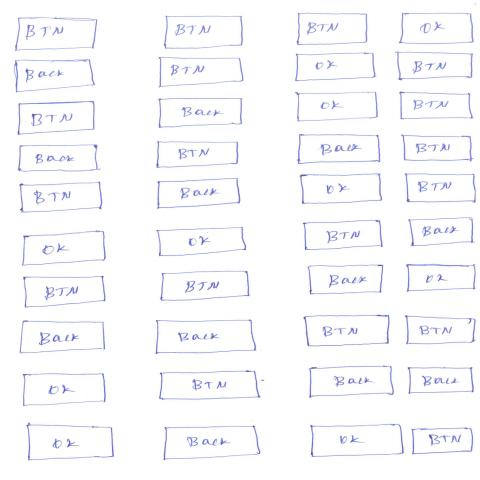Button: (162, 425, 259, 462), (156, 320, 256, 355), (27, 424, 116, 463), (21, 230, 107, 268), (310, 424, 406, 458), (159, 371, 263, 402), (12, 16, 99, 52), (158, 270, 251, 303), (308, 365, 397, 399), (21, 373, 107, 408), (17, 100, 96, 137), (156, 227, 250, 258), (158, 56, 246, 89), (19, 321, 107, 354), (24, 275, 109, 309), (296, 133, 383, 166), (305, 315, 392, 348), (14, 59, 96, 94), (19, 181, 103, 215), (157, 97, 245, 129), (165, 16, 245, 51), (156, 178, 242, 210), (297, 91, 380, 124), (300, 174, 384, 206), (294, 52, 377, 83), (399, 12, 476, 45), (17, 143, 98, 174), (304, 221, 385, 252), (295, 13, 370, 46), (155, 141, 240, 170), (396, 51, 474, 82), (309, 265, 384, 297), (406, 173, 478, 205), (399, 92, 473, 122), (406, 315, 476, 346), (401, 135, 476, 163), (409, 217, 476, 248), (407, 366, 475, 396), (407, 264, 478, 292), (412, 427, 476, 456)
